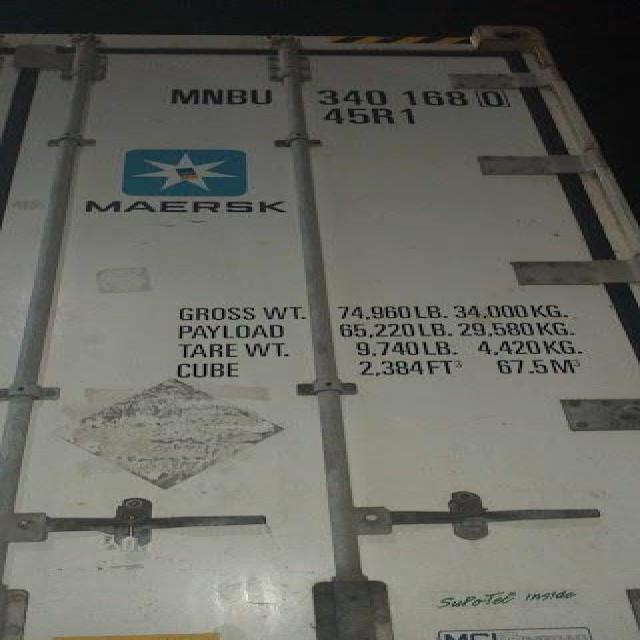ISO: (326, 109, 427, 125)
container_number: (164, 86, 506, 105)
